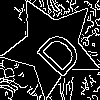D: (27, 22, 85, 80)
